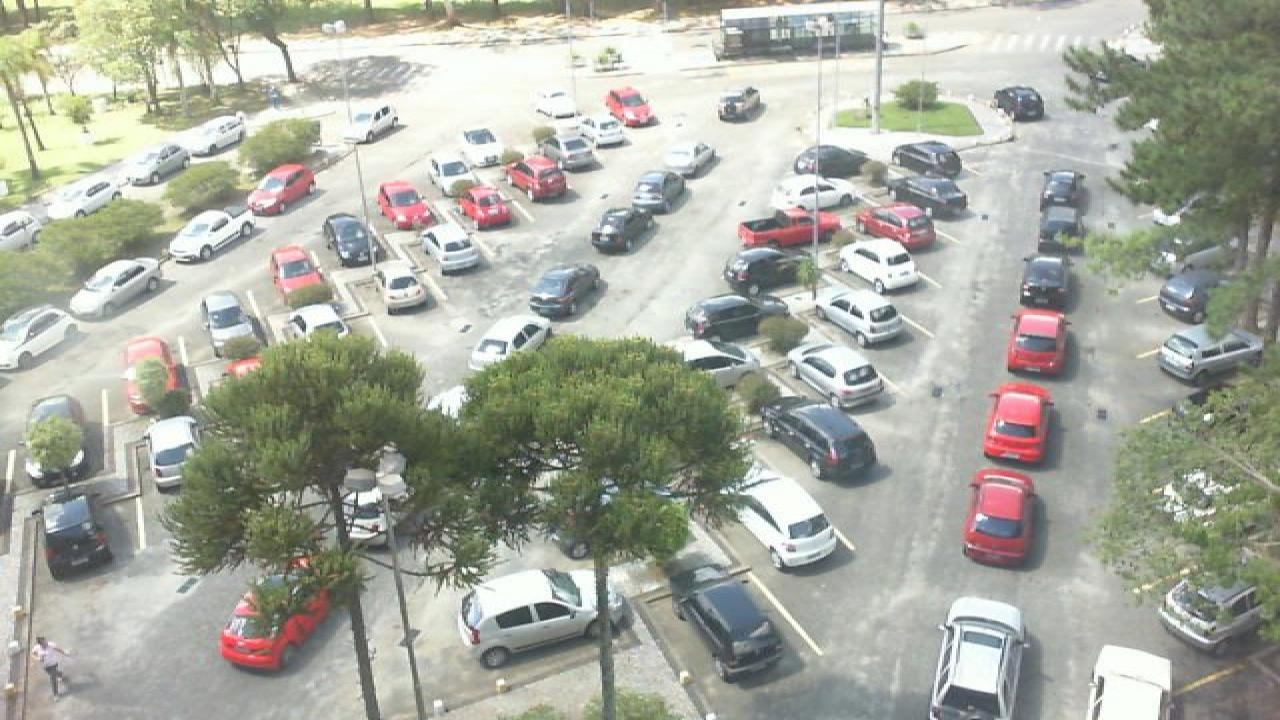Car: (458, 568, 624, 665), (670, 552, 786, 678), (924, 594, 1038, 720), (220, 572, 332, 672), (730, 470, 838, 570), (760, 394, 876, 479), (1156, 570, 1266, 650), (962, 468, 1038, 568), (1086, 643, 1176, 720), (36, 497, 116, 582), (784, 342, 886, 407), (1154, 324, 1264, 384), (16, 394, 86, 488), (68, 255, 162, 322), (980, 382, 1054, 464), (814, 286, 910, 345), (464, 316, 558, 375), (682, 292, 786, 344), (166, 208, 258, 266), (122, 334, 186, 416), (0, 304, 74, 374), (838, 239, 924, 294), (720, 246, 810, 297), (734, 208, 840, 249), (142, 416, 202, 488), (1008, 307, 1070, 376), (528, 262, 600, 320), (854, 204, 940, 250), (38, 178, 126, 221), (246, 163, 316, 217), (268, 244, 332, 303), (766, 176, 870, 212), (892, 175, 974, 220), (198, 288, 258, 349), (1154, 267, 1212, 325), (282, 302, 354, 348), (176, 110, 246, 156), (504, 154, 570, 202), (422, 227, 484, 278), (1018, 253, 1074, 309), (678, 339, 758, 377), (792, 144, 874, 181), (380, 261, 436, 315), (590, 206, 650, 255), (322, 212, 376, 266), (376, 181, 432, 232), (890, 142, 964, 180), (122, 144, 190, 184), (426, 146, 484, 190), (460, 182, 512, 231), (340, 105, 402, 146), (1030, 209, 1084, 256), (632, 171, 682, 216), (606, 86, 658, 126), (1038, 170, 1084, 214), (994, 86, 1048, 122), (664, 140, 716, 176), (0, 208, 42, 252), (554, 133, 602, 170), (460, 125, 506, 163), (718, 86, 764, 122), (586, 111, 630, 145), (532, 88, 580, 118)
